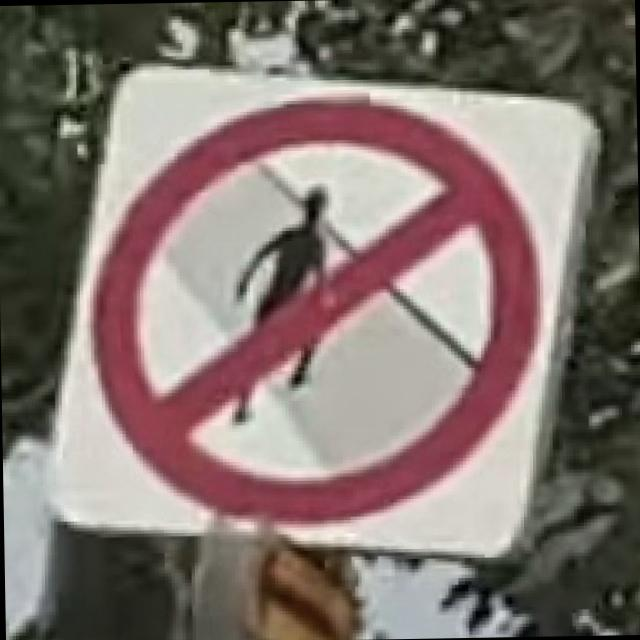nojaywalking_sign: (35, 49, 608, 572), (218, 176, 358, 428)
